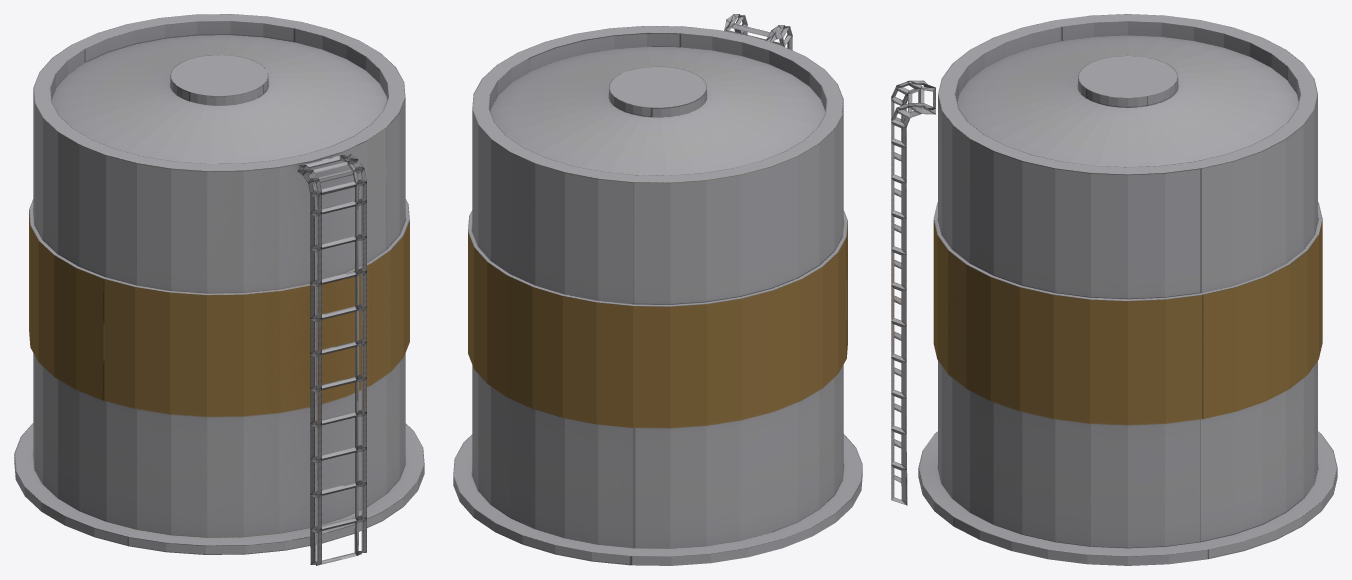
Rendered from nuclearbuilding2.glb.
3 renders of one model, left to right at view 1: azimuth 30°, elevation 25°; view 2: azimuth 150°, elevation 25°; view 3: azimuth 270°, elevation 25°, orthographic. The views are drawn at different scales.
Parts seen in each view (by area): view 1: Cylinder.012, Cylinder.013; view 2: Cylinder.012, Cylinder.013; view 3: Cylinder.012, Cylinder.013.
Part boxes in pixels (box(x1,y1,x2,y2)): Cylinder.012: box(14, 14, 424, 554); Cylinder.013: box(298, 154, 366, 565); Cylinder.012: box(453, 26, 862, 565); Cylinder.013: box(724, 14, 792, 50); Cylinder.012: box(918, 14, 1337, 565); Cylinder.013: box(891, 80, 935, 505).
Bounding box in the file's own units: 0.8986 × 0.9787 × 0.9568.
Materials: 2 (2 with a texture image).
